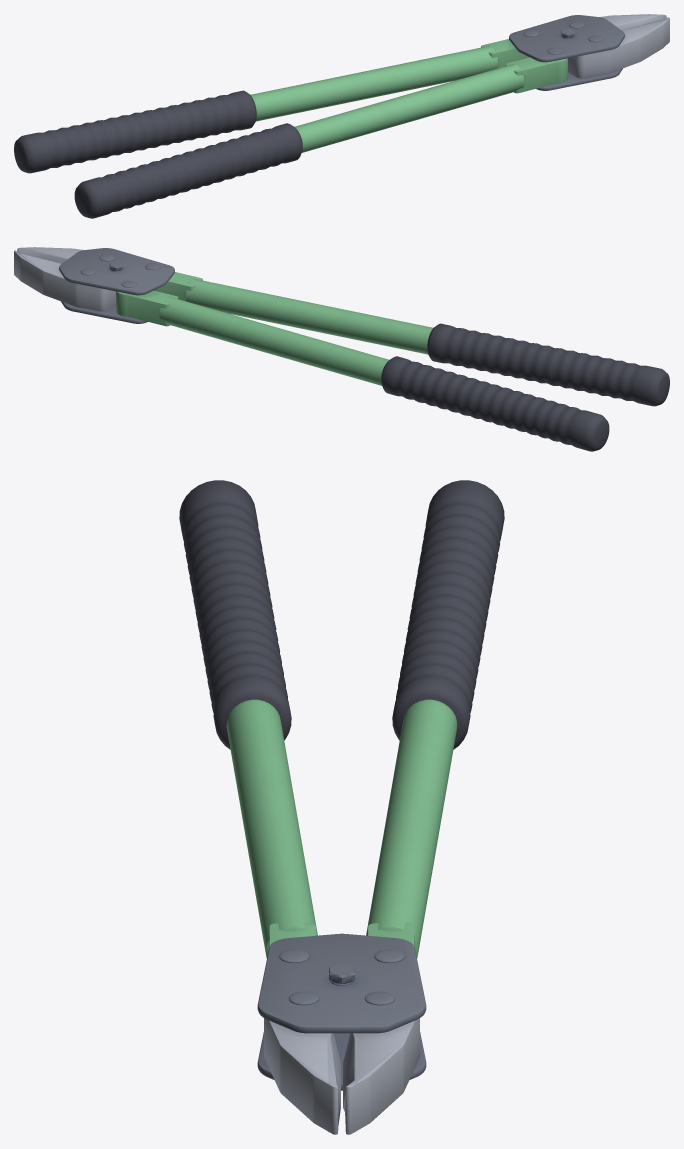
The model's file is bolt-cutter.glb.
The picture shows the model from 3 angles, top to bottom: view 1: azimuth 30°, elevation 25°; view 2: azimuth 150°, elevation 25°; view 3: azimuth 270°, elevation 25°; orthographic projection. The views are drawn at different scales.
Visible parts, largest first — view 1: bolt-cutter_body, bolt-cutter_arm_b; view 2: bolt-cutter_body, bolt-cutter_arm_b; view 3: bolt-cutter_body, bolt-cutter_arm_b.
Part boxes in pixels (left/top/right/bottom): bolt-cutter_body: left=14, top=14, right=669, bottom=173; bolt-cutter_arm_b: left=74, top=57, right=567, bottom=218; bolt-cutter_body: left=14, top=247, right=609, bottom=451; bolt-cutter_arm_b: left=154, top=272, right=669, bottom=406; bolt-cutter_body: left=257, top=480, right=504, bottom=1134; bolt-cutter_arm_b: left=179, top=480, right=317, bottom=958.
Bounding box in the file's own units: 0.6002 × 0.0362 × 0.1368.
2 materials, 2 textured.
